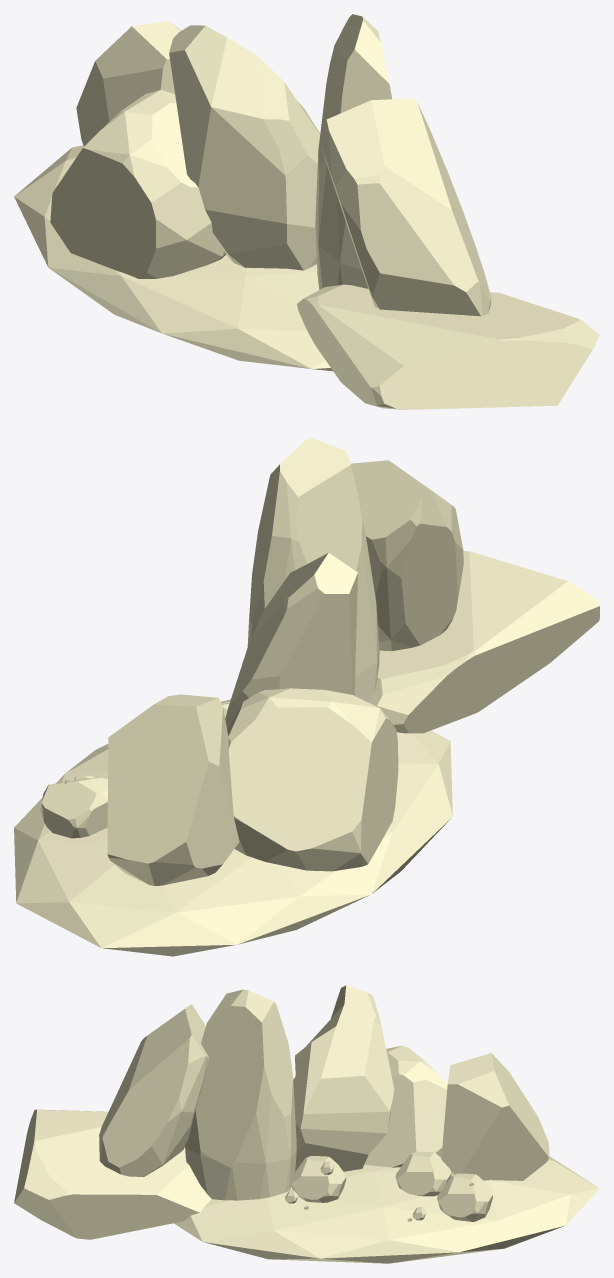
File: rockwall1.fbx
3 views of the same model, one above another, from view 1: azimuth 30°, elevation 25°; view 2: azimuth 150°, elevation 25°; view 3: azimuth 270°, elevation 25° (orthographic). The views are drawn at different scales.
Parts seen in each view (by area): view 1: Icosphere.006, Icosphere.004, Icosphere.011, Icosphere.001, Icosphere.002, Icosphere, Icosphere.003; view 2: Icosphere.002, Icosphere.001, Icosphere.006, Icosphere.003, Icosphere, Icosphere.011, Icosphere.004, Icosphere.010; view 3: Icosphere.002, Icosphere, Icosphere.006, Icosphere.004, Icosphere.011, Icosphere.003, Icosphere.001, Icosphere.010, Icosphere.009, Icosphere.005.
Part boxes in pixels (box(x1,y1,x2,y2)): Icosphere.006: box(297, 284, 599, 409); Icosphere.004: box(169, 25, 320, 270); Icosphere.011: box(321, 98, 491, 316); Icosphere.001: box(50, 90, 226, 278); Icosphere.002: box(14, 145, 332, 371); Icosphere: box(315, 14, 392, 289); Icosphere.003: box(76, 21, 181, 146); Icosphere.002: box(14, 699, 452, 956); Icosphere.001: box(227, 688, 398, 871); Icosphere.006: box(369, 551, 599, 733); Icosphere.003: box(107, 694, 239, 885); Icosphere: box(247, 438, 379, 702); Icosphere.011: box(351, 460, 463, 651); Icosphere.004: box(225, 552, 357, 729); Icosphere.010: box(40, 777, 107, 838); Icosphere.002: box(174, 1156, 599, 1263); Icosphere: box(185, 989, 296, 1200); Icosphere.006: box(14, 1109, 211, 1239); Icosphere.004: box(293, 985, 394, 1171); Icosphere.011: box(99, 1004, 209, 1176); Icosphere.003: box(441, 1053, 549, 1180); Icosphere.001: box(364, 1045, 447, 1167); Icosphere.010: box(437, 1173, 492, 1221); Icosphere.009: box(290, 1156, 346, 1202); Icosphere.005: box(395, 1151, 451, 1196).
Bounding box in the file's own units: 1271 × 1194 × 2623.
